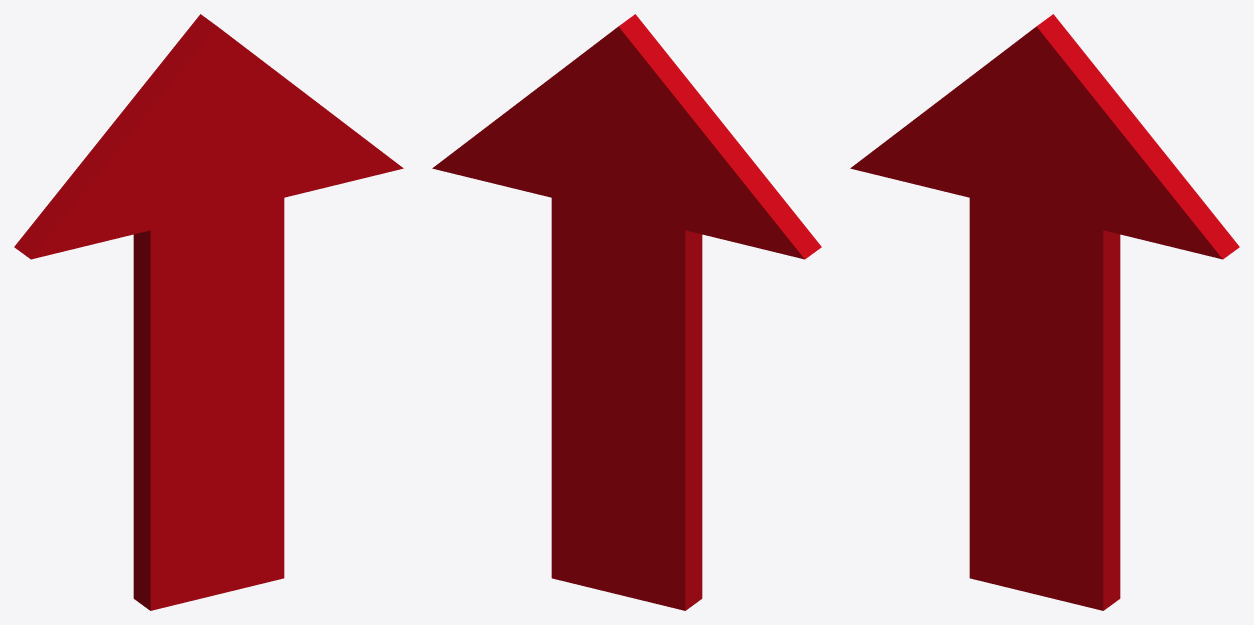
The model's file is Kompass_beweglich_prefab.fbx.
3 views of the same model, side by side, from view 1: azimuth 30°, elevation 25°; view 2: azimuth 150°, elevation 25°; view 3: azimuth 330°, elevation 25° (orthographic).
Parts seen in each view (by area): view 1: Kompassnadel; view 2: Kompassnadel; view 3: Kompassnadel.
Part boxes in pixels (left/top/right/bottom): Kompassnadel: left=14, top=14, right=403, bottom=610; Kompassnadel: left=432, top=14, right=821, bottom=610; Kompassnadel: left=850, top=14, right=1239, bottom=610.
Size of the model in its own units: 4.46 by 6.49 by 0.3514.
